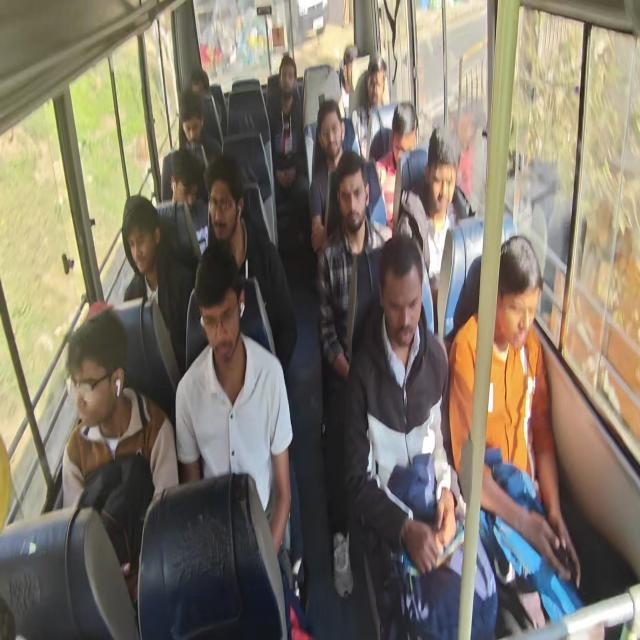person: (57, 49, 591, 637), (343, 234, 498, 638), (448, 234, 581, 591), (174, 243, 294, 562), (61, 304, 179, 606), (316, 150, 393, 598), (195, 155, 298, 369), (397, 126, 464, 333), (121, 194, 194, 375), (266, 55, 310, 258), (162, 87, 221, 205), (308, 99, 348, 256), (157, 147, 208, 260), (374, 101, 418, 228), (350, 54, 392, 161), (452, 93, 487, 217), (169, 147, 203, 209), (338, 43, 359, 119)
